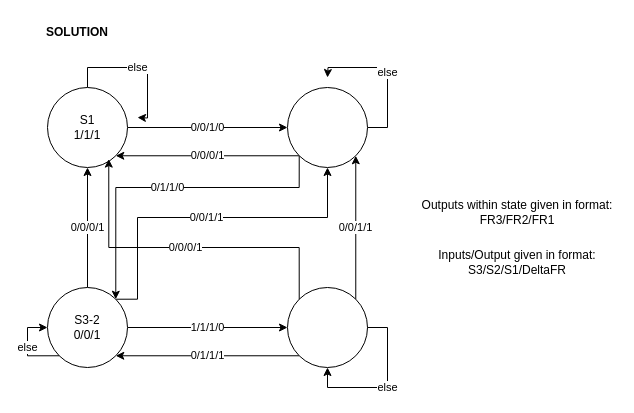
Some shapes in this 634 by 413 pixel diagram are drawn without their labels. The box of each missing label's shape, as (x1, y1, x2, y2) in pixels:
S2-1 0/1/1: (286, 86, 368, 168)
S3 0/0/0: (286, 286, 368, 368)
